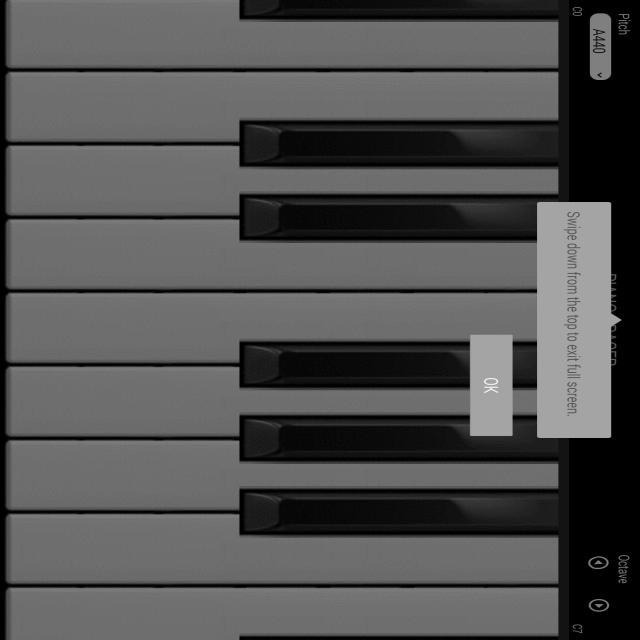Button: (467, 331, 519, 439)
ImageButton: (585, 598, 613, 615), (584, 554, 610, 570)
